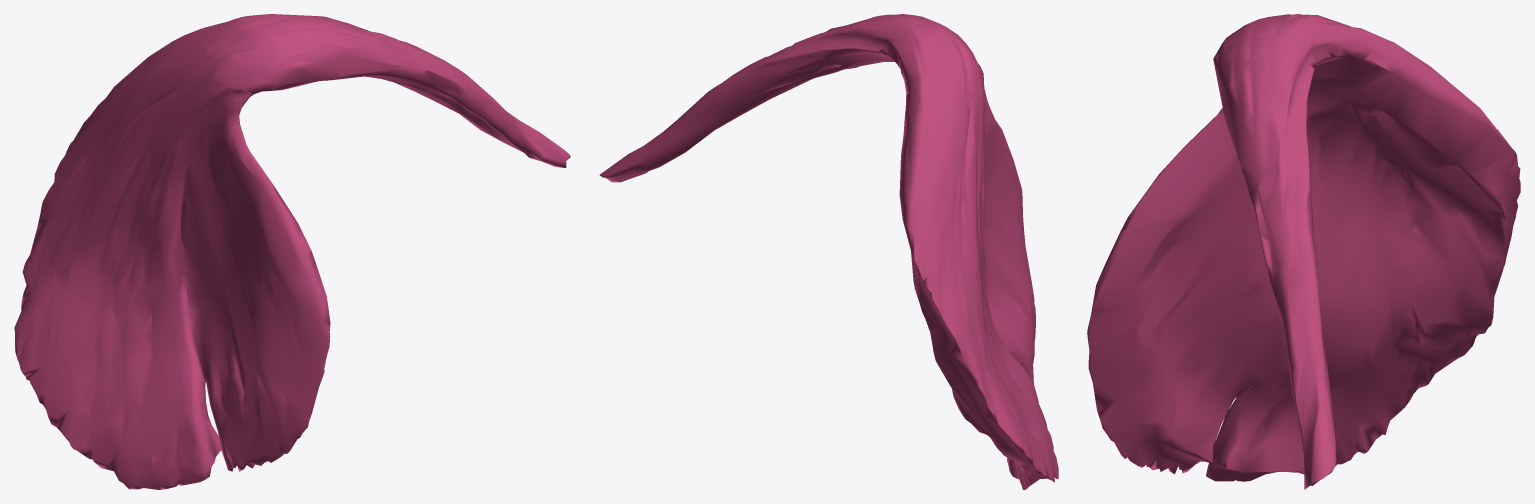
3 views of the same model, side by side, from view 1: azimuth 30°, elevation 25°; view 2: azimuth 150°, elevation 25°; view 3: azimuth 270°, elevation 25° (orthographic). The views are drawn at different scales.
Parts seen in each view (by area): view 1: 左侧闭孔内肌; view 2: 左侧闭孔内肌; view 3: 左侧闭孔内肌.
Boxes of the visible parts, box(x1,y1,x2,y2) form: 左侧闭孔内肌: box(14, 14, 570, 489); 左侧闭孔内肌: box(599, 14, 1058, 489); 左侧闭孔内肌: box(1087, 14, 1520, 489).
Size of the model in its own units: 0.144 by 0.1202 by 0.0881.
